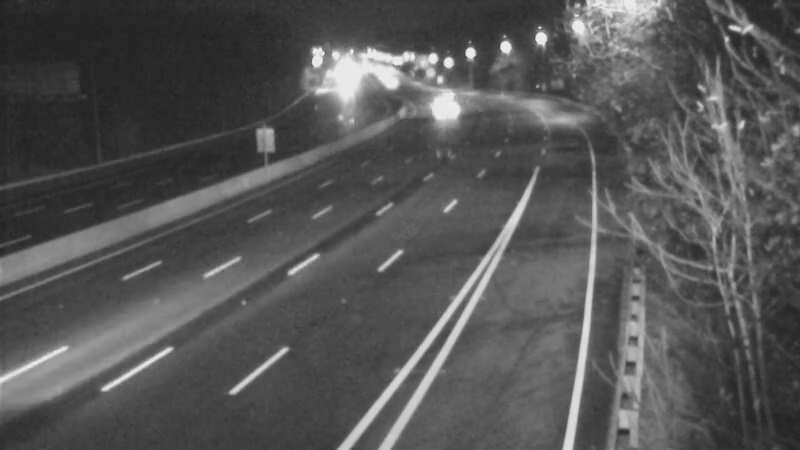vehicle: (363, 59, 413, 109), (418, 68, 468, 118), (415, 77, 465, 127), (423, 89, 473, 139)
